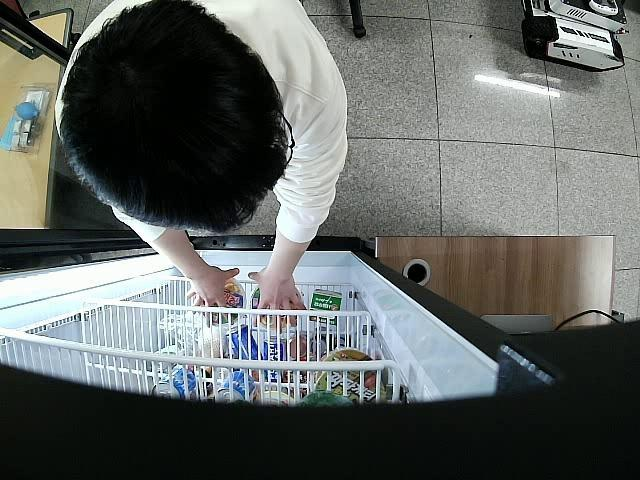09_yukGaeJang: (250, 286, 303, 335), (198, 280, 246, 327)
